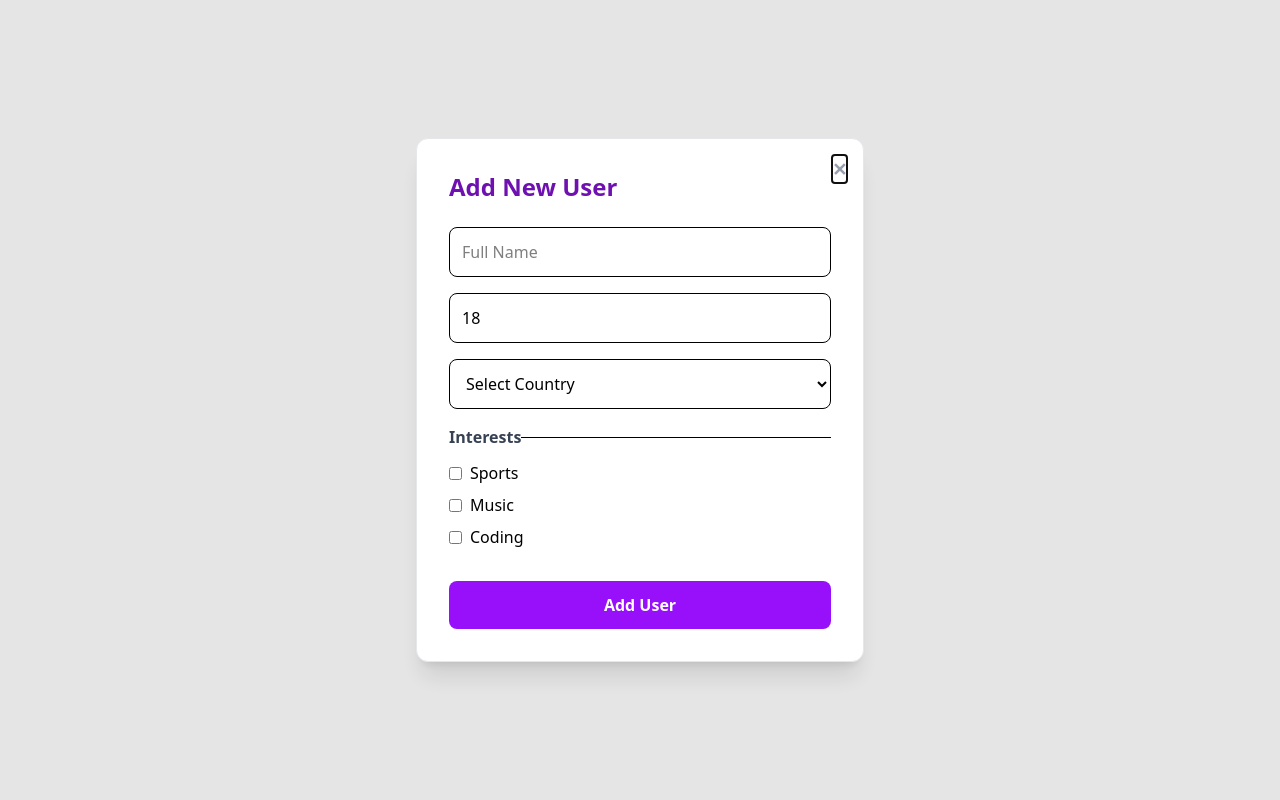
Scenario: AddUserModal › shows validation errors when required fields are empty
Click the button "Add User": click(640, 605) [449,581,831,629]
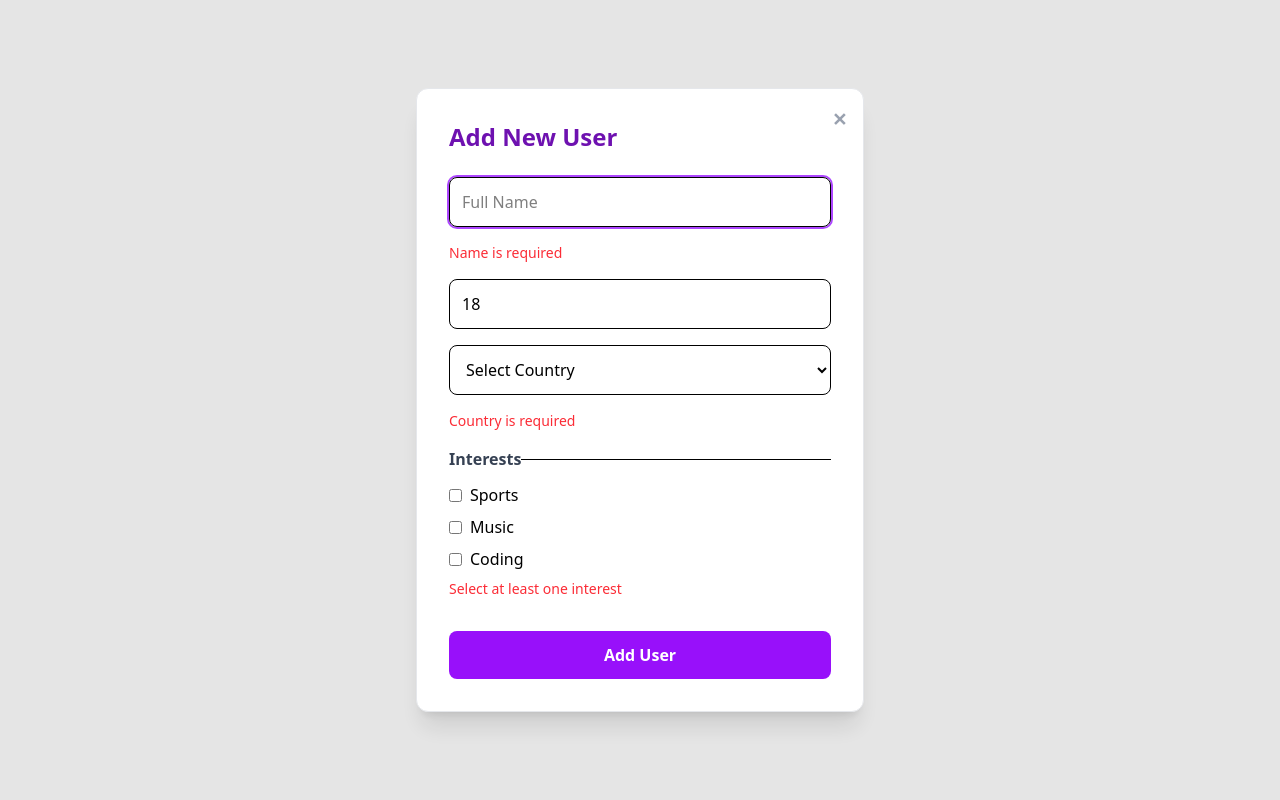
Now the text "Name is required" is shown, box [449,243,562,262]
Now the text "Country is required" is shown, box [449,411,576,430]
Now the text "Select at least one interest" is shown, box [449,579,622,598]
